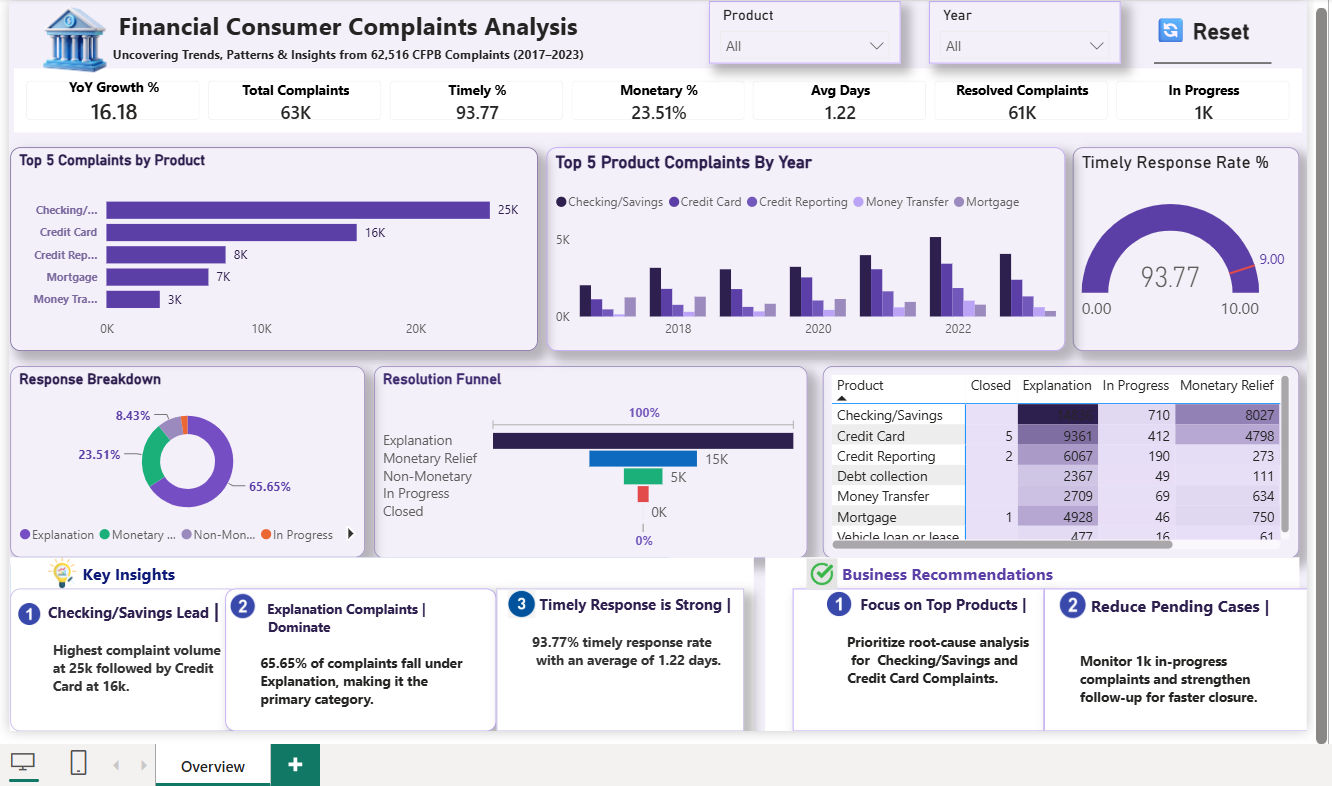

This screenshot's page, from the dashboard's own definition file:
{"tool":"powerbi","page":{"name":"Overview","canvas":[1280,720],"ordinal":0},"visuals":[{"type":"shape","box":[1.2,548.3,656.8,162.1],"z":0},{"type":"textbox","box":[0,0,1280.2,62],"z":1000},{"type":"cardVisual","fields":{"Data":["Measures (2).YoY Growth %","Measures (2).Total Complaints","Measures (2).Timely Response Rate %","Measures (2).Monetary Relief Rate %","Measures (2).Avg Response Days","Measures (2).Resolved Complaints","Measures (2).In Progress Complaints"]},"box":[0,62,1280.2,73.9],"z":2000},{"type":"barChart","title":"Top 5 Complaints by Product","fields":{"Category":["complaints_cleaned.Product"],"Y":["Measures (2).Total Complaints"]},"box":[1.2,144.1,519.9,200.8],"z":3000},{"type":"donutChart","title":"Response Breakdown","fields":{"Y":["CountNonNull(complaints_cleaned.Company response to consumer)"],"Category":["complaints_cleaned.Company response to consumer"]},"box":[1.2,359.7,349.9,188.5],"z":4000},{"type":"funnel","title":"Resolution Funnel","fields":{"Category":["complaints_cleaned.Company response to consumer"],"Y":["Measures (2).Total Complaints"]},"box":[359.7,359.7,427.5,189.7],"z":5000},{"type":"gauge","fields":{"Y":["Measures (2).Timely Response Rate %"]},"box":[1048.4,144.1,223,200.8],"z":6000},{"type":"pivotTable","fields":{"Rows":["complaints_cleaned.Product"],"Columns":["complaints_cleaned.Company response to consumer"],"Values":["Measures (2).Total Complaints"]},"box":[802,359.7,469.4,189.7],"z":7000},{"type":"clusteredColumnChart","title":"Top 5 Product Complaints By Year","fields":{"Category":["complaints_cleaned.Year"],"Y":["Measures (2).Total Complaints"],"Series":["complaints_cleaned.Product"]},"box":[529.7,144.1,511.3,200.8],"z":8000},{"type":"textbox","box":[1.2,548.3,733.1,171.7],"z":9000},{"type":"textbox","box":[1.2,579.3,225.3,140.7],"z":10000},{"type":"textbox","box":[213.4,579.3,267,140.7],"z":10001},{"type":"textbox","box":[480.5,579,243.9,140.4],"z":10002},{"type":"textbox","box":[745.3,548.2,526,171.2],"z":10003},{"type":"textbox","box":[772.4,579,247.6,140.4],"z":10004},{"type":"textbox","box":[1020.1,579,259.9,140.4],"z":10006},{"type":"textbox","box":[97.3,38.2,506.3,32],"z":10007},{"type":"slicer","fields":{"Values":["complaints_cleaned.Product"]},"box":[689.9,0,188.5,61.6],"z":10008},{"type":"slicer","fields":{"Values":["complaints_cleaned.Year"]},"box":[906.7,0,188.5,61.6],"z":10009},{"type":"actionButton","title":" 🔄 Reset","box":[1128.5,12.3,115.8,49.3],"z":10010},{"type":"image","box":[1.2,0,126.9,76.4],"z":10011},{"type":"image","box":[30.8,548.2,43.1,30.8],"z":10012},{"type":"image","box":[772.4,549.5,57.9,30.8],"z":10013},{"type":"image","box":[1.2,592.6,38.2,23.4],"z":10014},{"type":"image","box":[213.1,583.9,34.5,24.6],"z":10015},{"type":"image","box":[480.5,580.3,49.3,28.3],"z":10016},{"type":"image","box":[715.8,581.5,204.5,25.9],"z":10017},{"type":"image","box":[1001.6,581.5,93.6,27.1],"z":10018}]}

Visuals, with their boxes on the page's 1280x720 design canvas (x1, y1, x2, y2). These are canvas units, not pixel positions in the 1332x786 screenshot, which may show the page scaled, cropped or inside an application window:
shape: [left=1, top=548, right=658, bottom=710]
textbox: [left=0, top=0, right=1280, bottom=62]
cardVisual - Measures (2).YoY Growth % x Measures (2).Total Complaints: [left=0, top=62, right=1280, bottom=136]
"Top 5 Complaints by Product" barChart: [left=1, top=144, right=521, bottom=345]
"Response Breakdown" donutChart: [left=1, top=360, right=351, bottom=548]
"Resolution Funnel" funnel: [left=360, top=360, right=787, bottom=549]
gauge - Measures (2).Timely Response Rate %: [left=1048, top=144, right=1271, bottom=345]
pivotTable - complaints_cleaned.Product x complaints_cleaned.Company response to consumer: [left=802, top=360, right=1271, bottom=549]
"Top 5 Product Complaints By Year" clusteredColumnChart: [left=530, top=144, right=1041, bottom=345]
textbox: [left=1, top=548, right=734, bottom=720]
textbox: [left=1, top=579, right=226, bottom=720]
textbox: [left=213, top=579, right=480, bottom=720]
textbox: [left=480, top=579, right=724, bottom=719]
textbox: [left=745, top=548, right=1271, bottom=719]
textbox: [left=772, top=579, right=1020, bottom=719]
textbox: [left=1020, top=579, right=1280, bottom=719]
textbox: [left=97, top=38, right=604, bottom=70]
slicer - complaints_cleaned.Product: [left=690, top=0, right=878, bottom=62]
slicer - complaints_cleaned.Year: [left=907, top=0, right=1095, bottom=62]
" 🔄 Reset" actionButton: [left=1128, top=12, right=1244, bottom=62]
image: [left=1, top=0, right=128, bottom=76]
image: [left=31, top=548, right=74, bottom=579]
image: [left=772, top=550, right=830, bottom=580]
image: [left=1, top=593, right=39, bottom=616]
image: [left=213, top=584, right=248, bottom=608]
image: [left=480, top=580, right=530, bottom=609]
image: [left=716, top=582, right=920, bottom=607]
image: [left=1002, top=582, right=1095, bottom=609]
